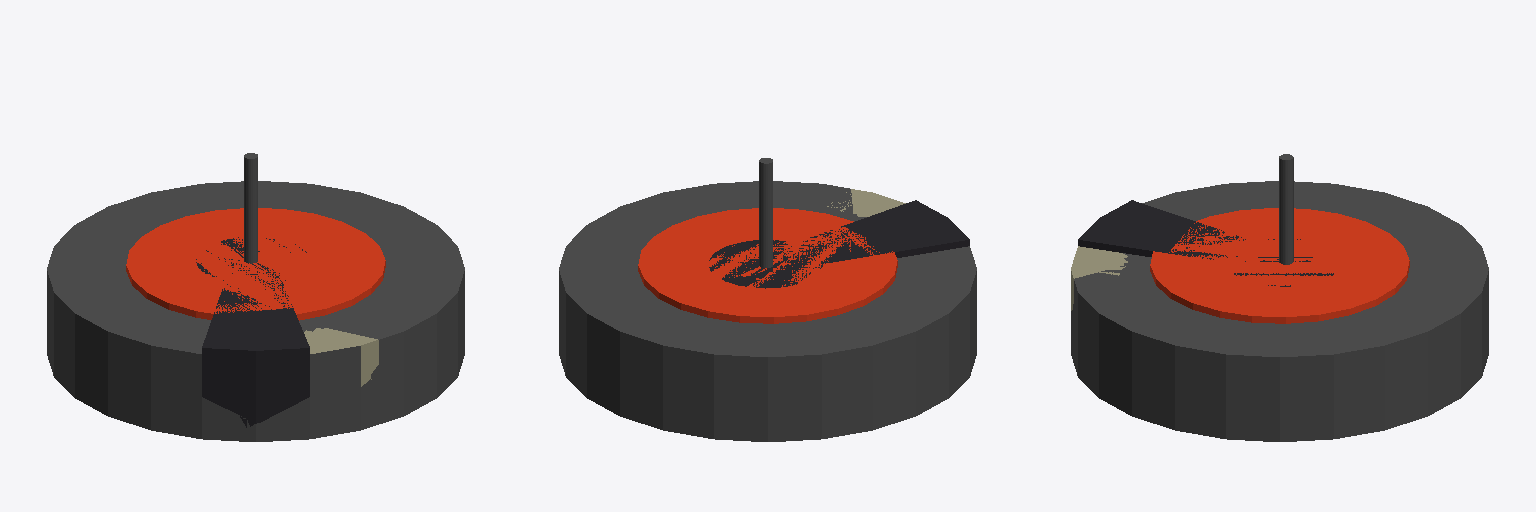
The picture shows the model from 3 angles: view 1: azimuth 30°, elevation 25°; view 2: azimuth 150°, elevation 25°; view 3: azimuth 270°, elevation 25°; orthographic projection.
Parts seen in each view (by area): view 1: Mesh1Model; view 2: Mesh1Model; view 3: Mesh1Model.
Part boxes in pixels (bbox=[...]): Mesh1Model: bbox=[47, 153, 464, 441]; Mesh1Model: bbox=[559, 158, 976, 441]; Mesh1Model: bbox=[1071, 154, 1488, 441].
Size of the model in its own units: 0.798 by 0.4128 by 0.798.
5 materials, 4 textured.